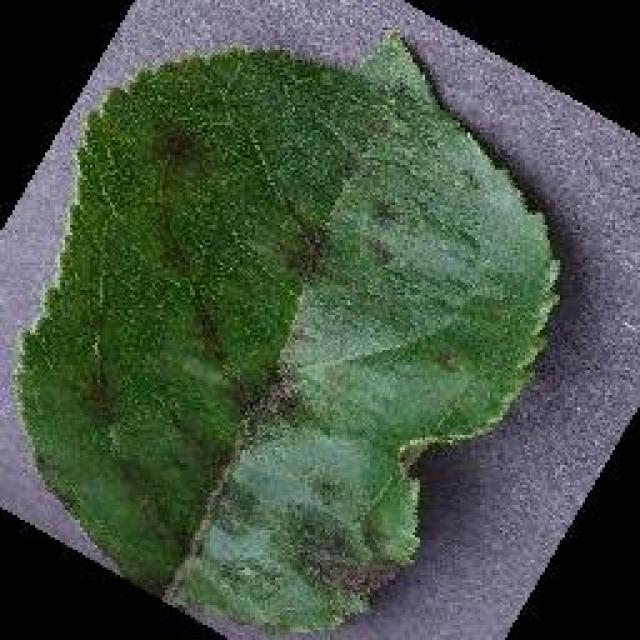apple scab disease: (12, 25, 562, 637)
